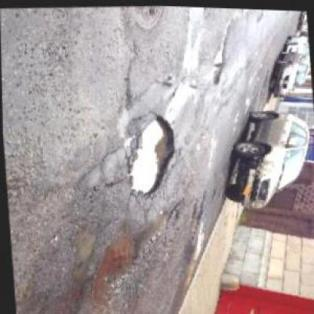Hueco: (121, 110, 179, 196), (66, 222, 102, 282), (185, 192, 208, 240), (207, 46, 226, 85)
